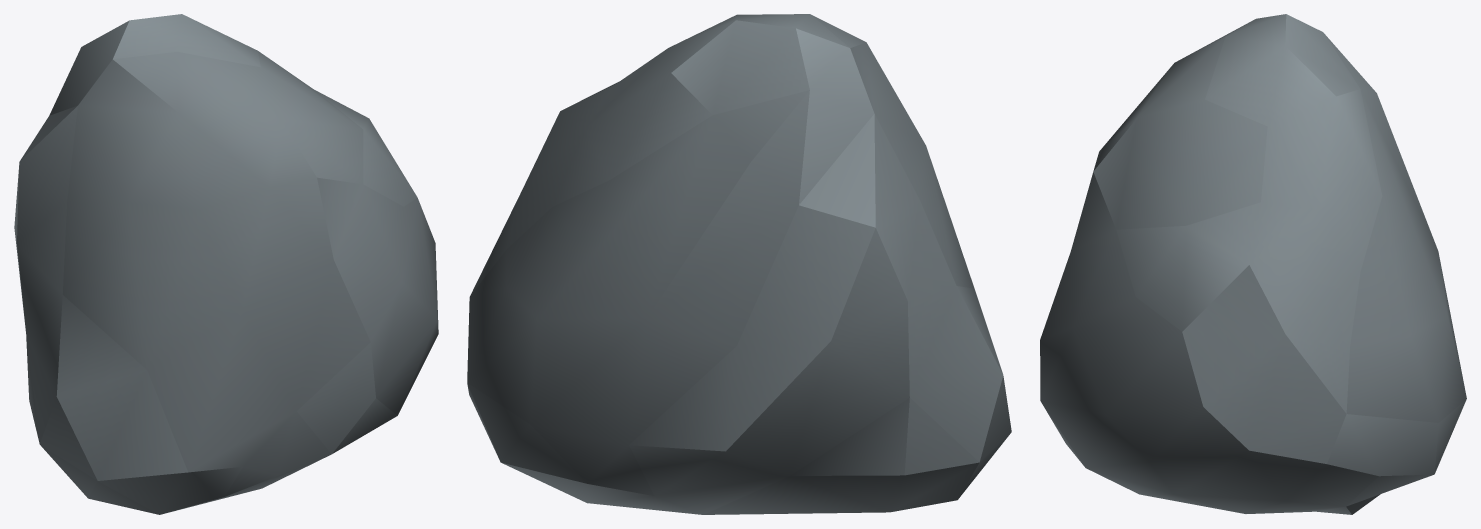
Rendered from Rock_3_G_Color1.glb.
3 renders of one model, left to right at view 1: azimuth 30°, elevation 25°; view 2: azimuth 150°, elevation 25°; view 3: azimuth 270°, elevation 25°, orthographic. The views are drawn at different scales.
Visible parts, largest first — view 1: Rock_3_G_Color1; view 2: Rock_3_G_Color1; view 3: Rock_3_G_Color1.
Boxes of the visible parts, x1,y1,x2,y2 form: Rock_3_G_Color1: [14, 14, 438, 514]; Rock_3_G_Color1: [467, 14, 1011, 514]; Rock_3_G_Color1: [1040, 14, 1466, 514].
Size of the model in its own units: 1.86 by 2 by 1.73.
Materials: 1 (1 with a texture image).
